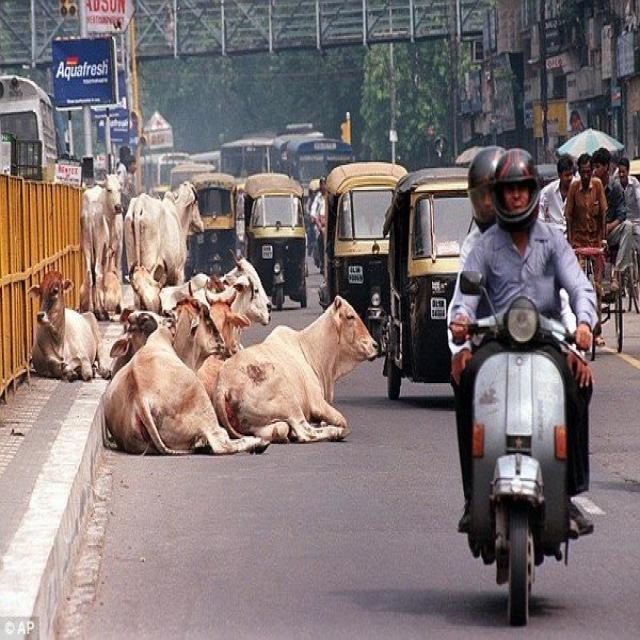autorickshaw: (384, 168, 471, 399), (320, 162, 406, 350), (244, 173, 308, 308), (185, 173, 236, 278)
motorcycle: (450, 144, 609, 629)
